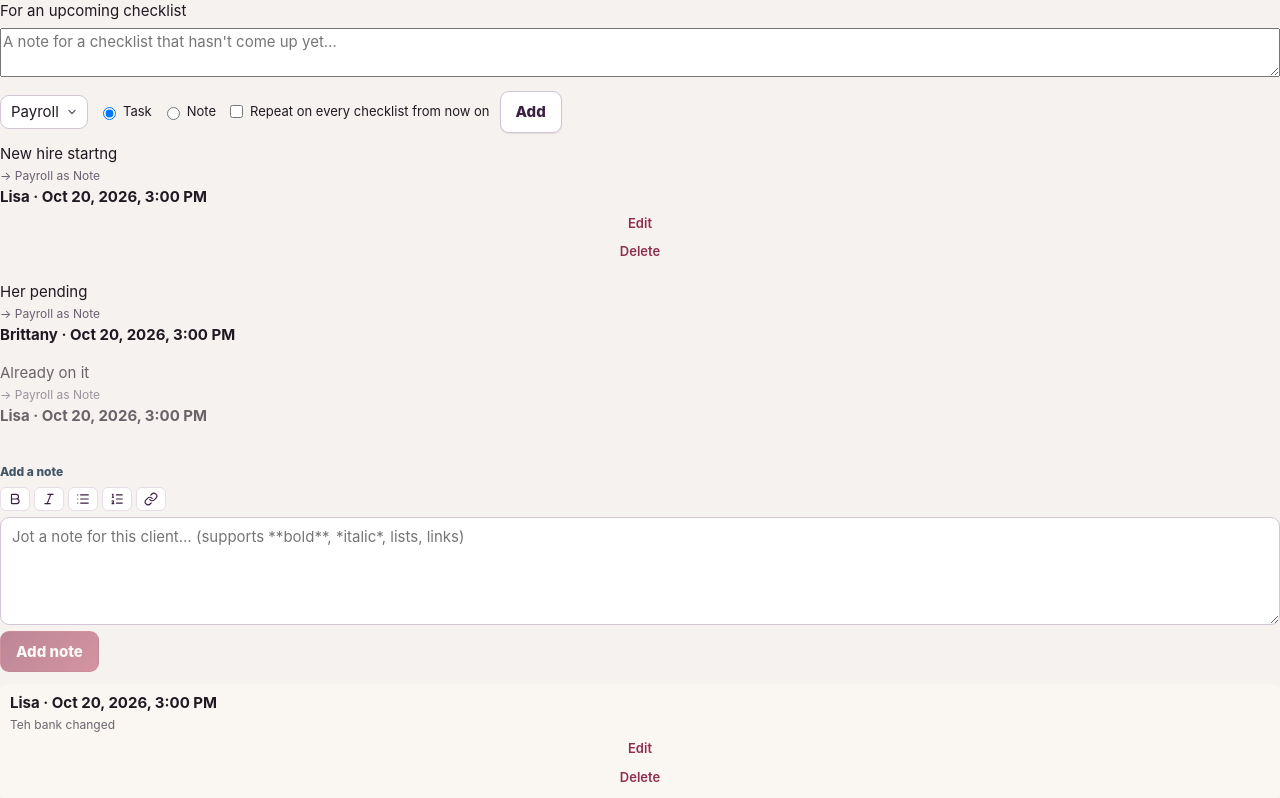
Test case: the notes log › a refused save keeps the box open and says why
Expected: the list item "Teh bank changed" is shown, x1=10 y1=717 x2=115 y2=732
Click the button "Edit" below "Teh bank changed" at point(640, 749), box x1=10 y1=735 x2=1270 y2=762
(page scrolled)
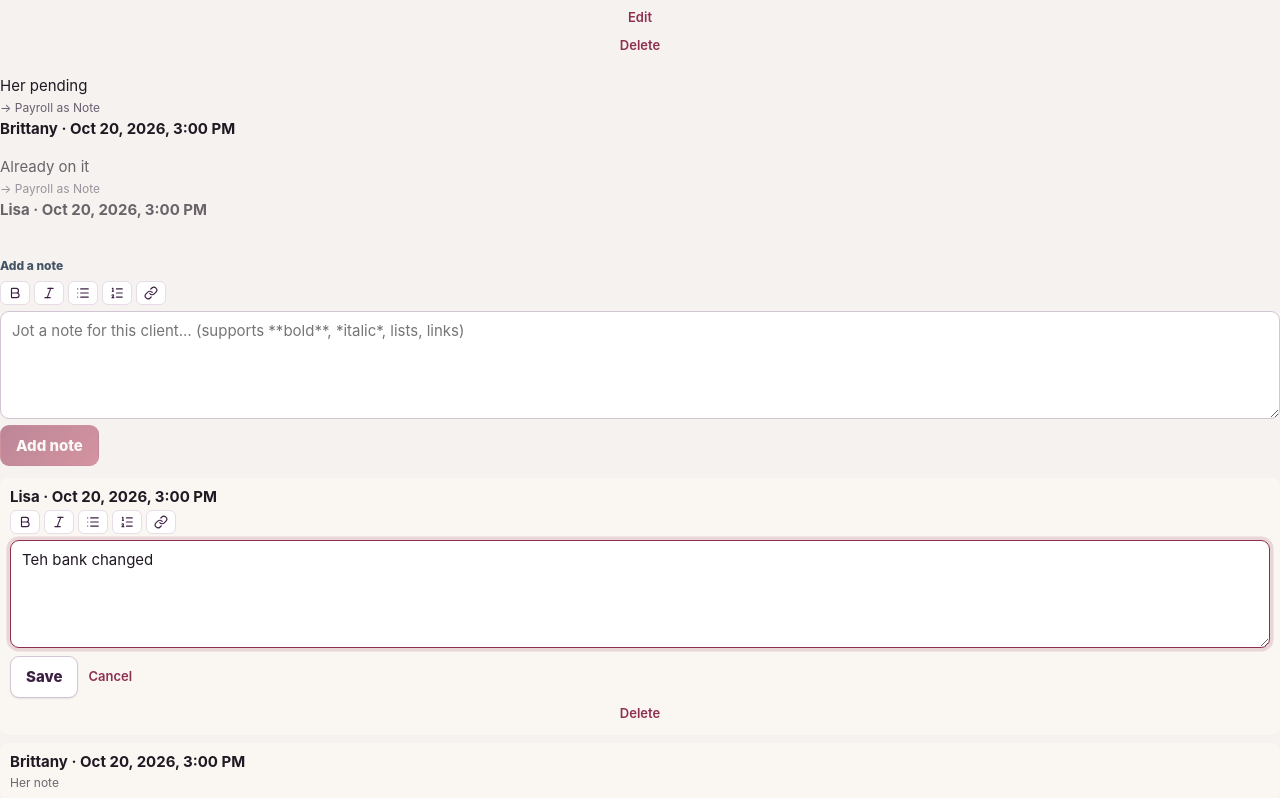
Replace the text in the text box named "Edit note" with "x" at point(640, 594), box x1=10 y1=540 x2=1270 y2=648
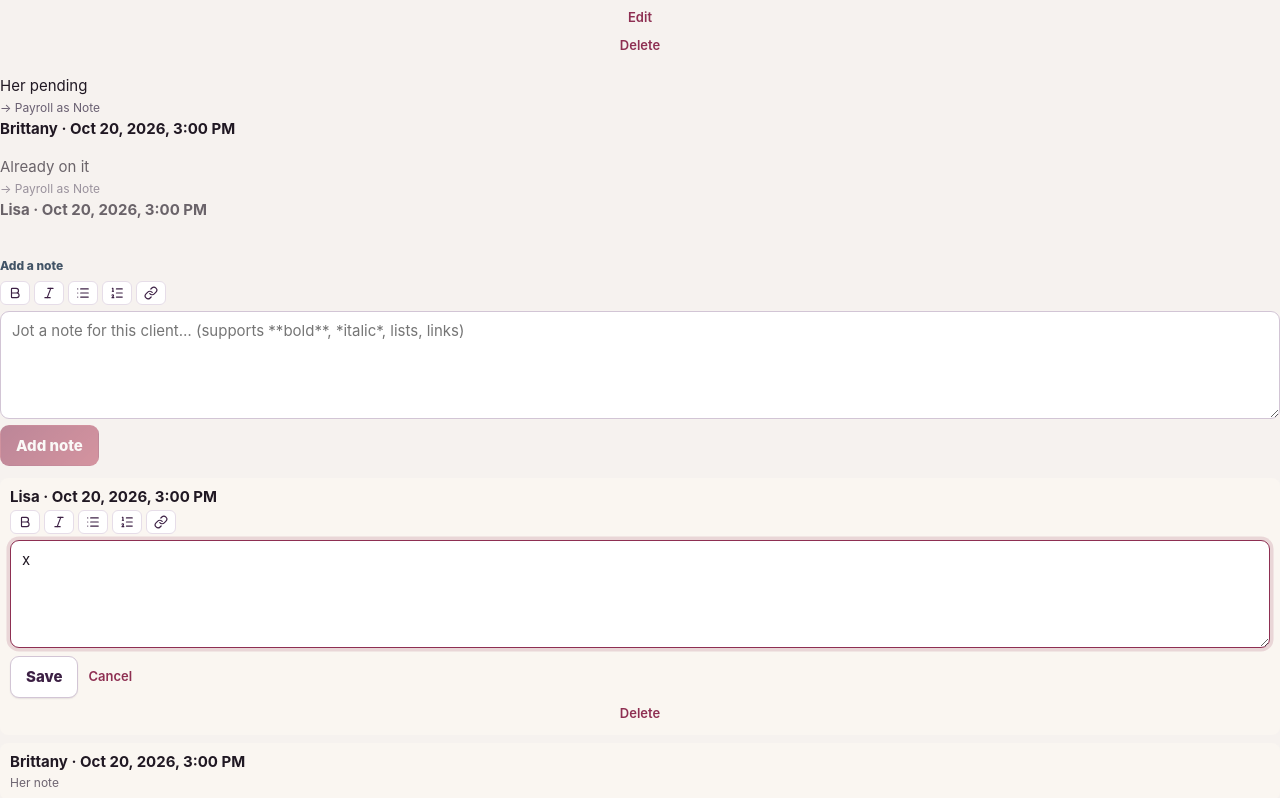
Click the button "Save" at point(44, 677), box x1=10 y1=656 x2=78 y2=698
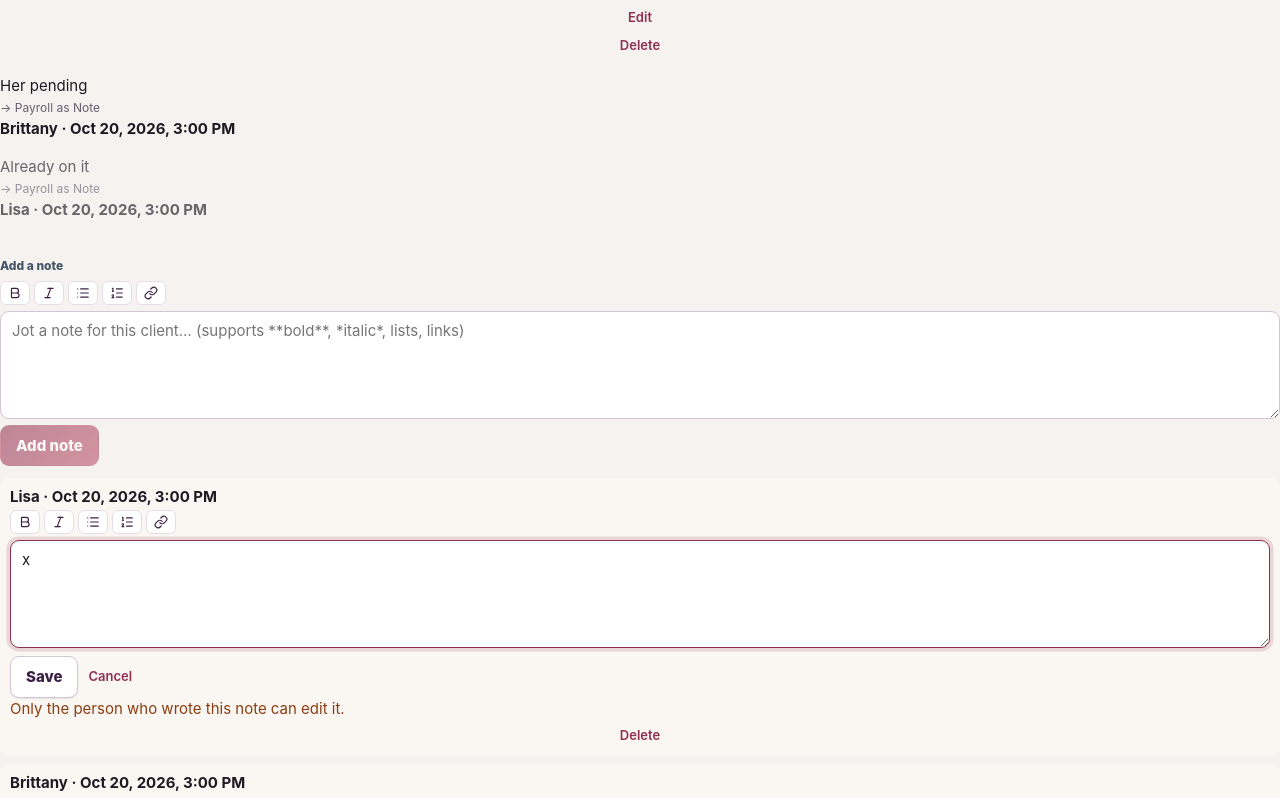
Expected: the text "Only the person who wrote this note can edit it." is shown, x1=10 y1=699 x2=345 y2=718
